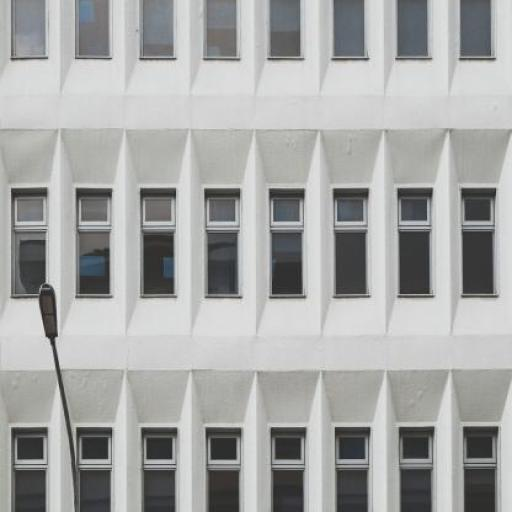street light: (38, 280, 80, 512)
